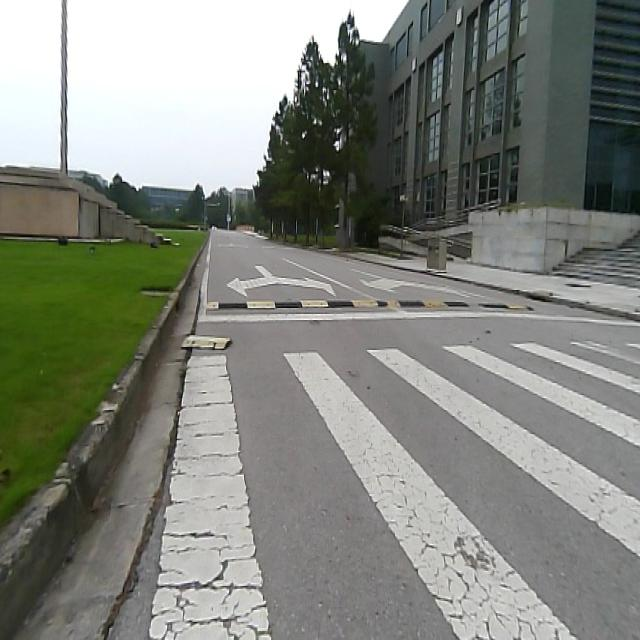Speed Bump: (205, 294, 539, 311)
